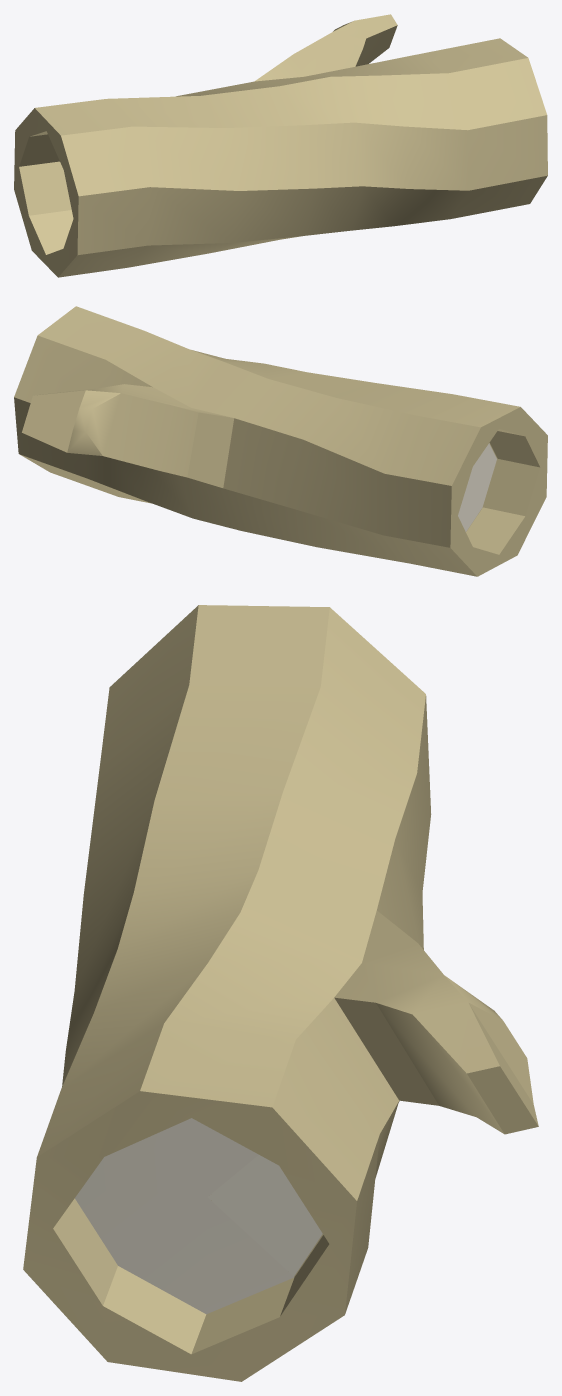
File: log.fbx
The picture shows the model from 3 angles, top to bottom: view 1: azimuth 30°, elevation 25°; view 2: azimuth 150°, elevation 25°; view 3: azimuth 270°, elevation 25°; orthographic projection. The views are drawn at different scales.
Visible parts, largest first — view 1: pCylinder1; view 2: pCylinder1; view 3: pCylinder1.
Boxes of the visible parts, left/top/right/bottom form: pCylinder1: left=14, top=14, right=547, bottom=277; pCylinder1: left=14, top=306, right=547, bottom=576; pCylinder1: left=23, top=605, right=538, bottom=1381.
Bounding box in the file's own units: 5.43 × 1.92 × 2.61.
